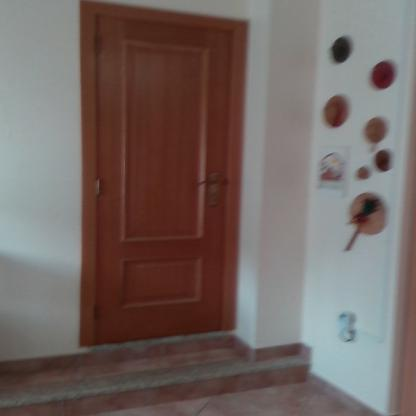door: (95, 18, 227, 338)
hinged: (92, 34, 100, 56), (95, 176, 101, 197), (92, 302, 98, 320)
lever: (198, 178, 220, 187)
